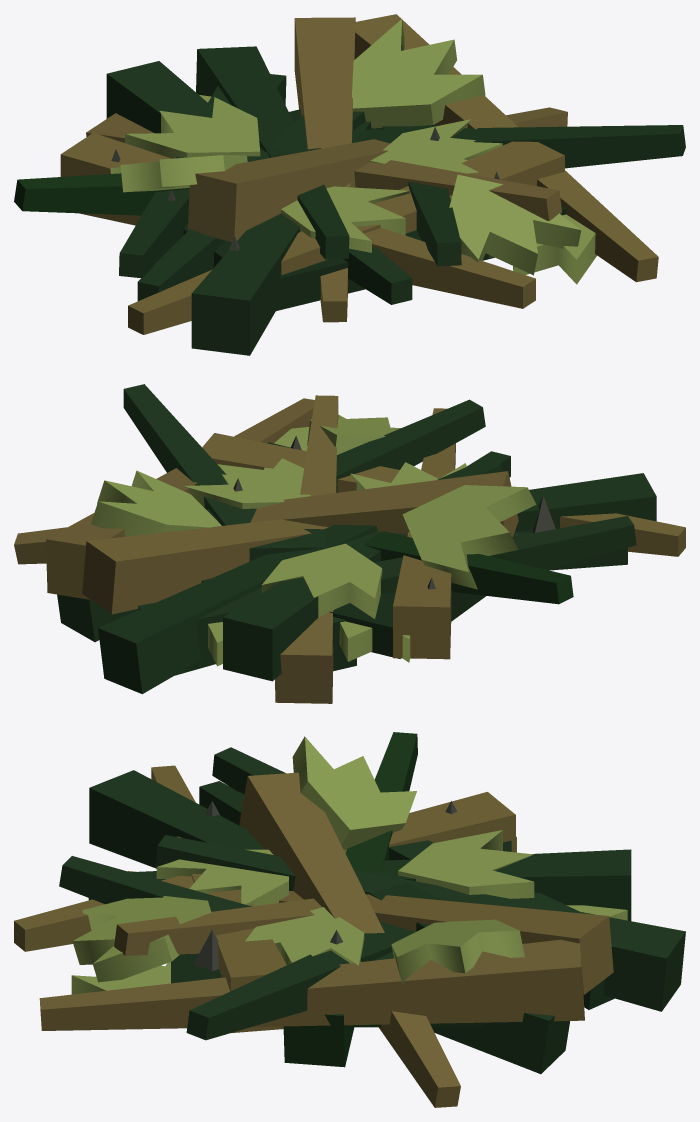
File: kombinacija1.fbx
3 views of the same model, one above another, from view 1: azimuth 30°, elevation 25°; view 2: azimuth 150°, elevation 25°; view 3: azimuth 270°, elevation 25° (orthographic). The views are drawn at different scales.
Visible parts, largest first — view 1: pCube31; view 2: pCube31, pPyramid8; view 3: pCube31, pPyramid8.
Boxes of the visible parts, x1,y1,x2,y2 form: pCube31: [14, 14, 685, 355]; pCube31: [14, 384, 685, 703]; pPyramid8: [233, 436, 555, 589]; pCube31: [14, 732, 685, 1107]; pPyramid8: [193, 801, 457, 971].
Size of the model in its own units: 0.00454 by 0.00114 by 0.00456.
